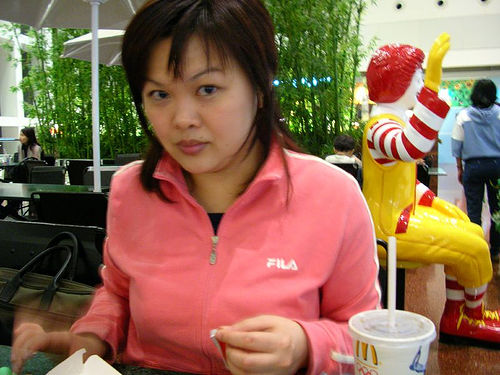without_mask: (113, 1, 286, 192)
